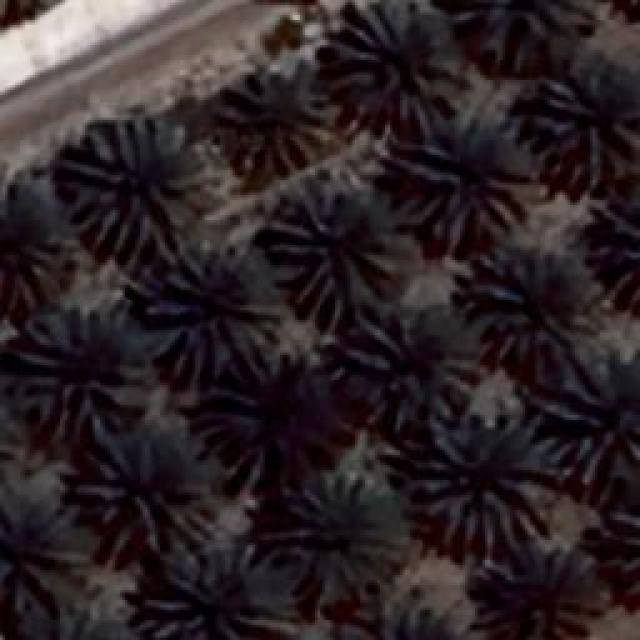PalmTree: (79, 45, 408, 617), (59, 118, 202, 258), (418, 408, 558, 550), (265, 190, 405, 328), (142, 242, 280, 380), (15, 300, 150, 432), (400, 112, 532, 245), (284, 472, 408, 606), (77, 428, 215, 548), (328, 2, 462, 122), (137, 542, 300, 638), (206, 378, 349, 482), (528, 65, 638, 180), (470, 250, 582, 362), (222, 60, 328, 170), (344, 322, 468, 410), (458, 557, 586, 640), (555, 376, 640, 492), (0, 491, 70, 601), (464, 0, 584, 62), (590, 198, 640, 308), (592, 508, 640, 602), (12, 606, 140, 640), (0, 382, 21, 494), (0, 382, 16, 498), (0, 0, 68, 24)
